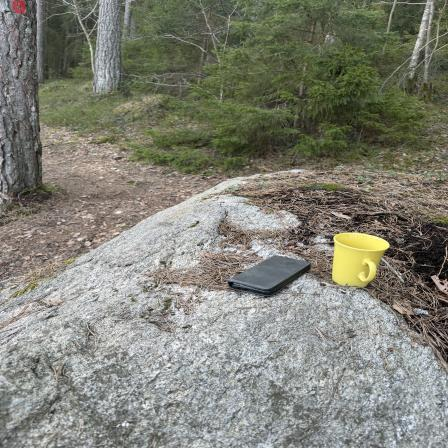phone: (229, 254, 312, 295)
yellow_cup: (336, 233, 391, 289)
